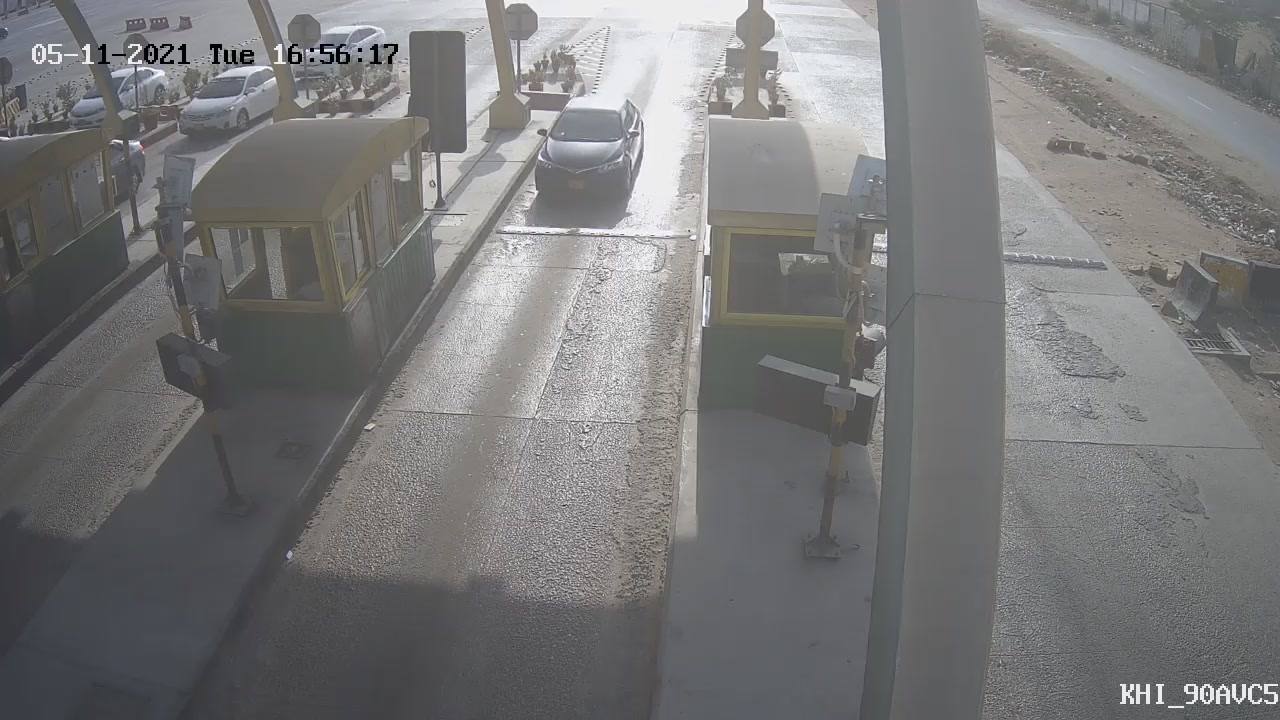F1: (507, 74, 664, 226)
